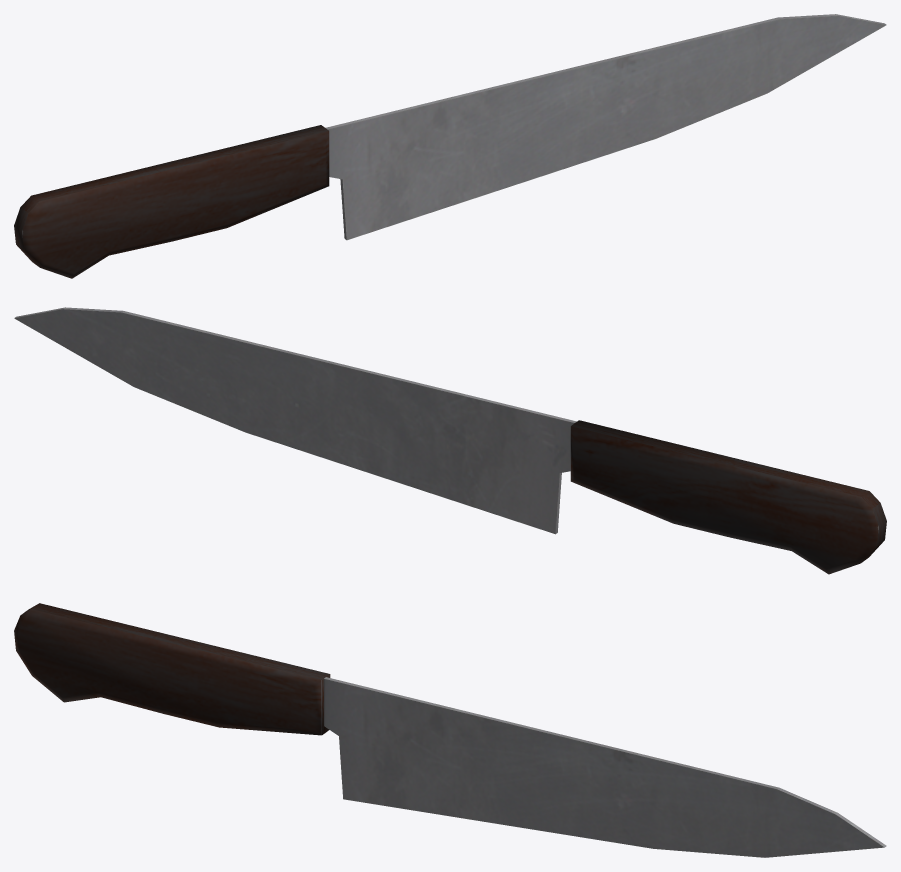
Rendered from chef_knife.FBX.
3 views of the same model, one above another, from view 1: azimuth 30°, elevation 25°; view 2: azimuth 150°, elevation 25°; view 3: azimuth 330°, elevation 25° (orthographic).
Visible parts, largest first — view 1: Line002; view 2: Line002; view 3: Line002.
Part boxes in pixels (x1=…): Line002: x1=14, y1=14, x2=886, y2=278; Line002: x1=14, y1=307, x2=886, y2=574; Line002: x1=14, y1=603, x2=886, y2=857.
Size of the model in its own units: 674 by 85.88 by 16.52.
1 material, 1 textured.
